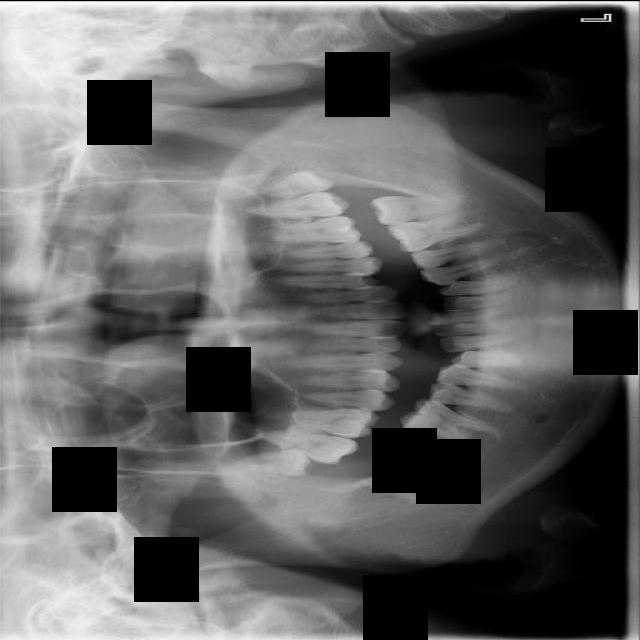3M ESPE Implant: (232, 446, 313, 476)
73: (576, 30, 592, 38)
BioHorizons Implant: (245, 190, 351, 218)
BioLife Implant: (251, 167, 337, 198)
Blue Sky Bio Implant: (367, 192, 465, 225)
Caries: (255, 422, 360, 469)
Implant: (378, 427, 475, 467)
Keystone Dental Implant: (368, 445, 448, 510)
